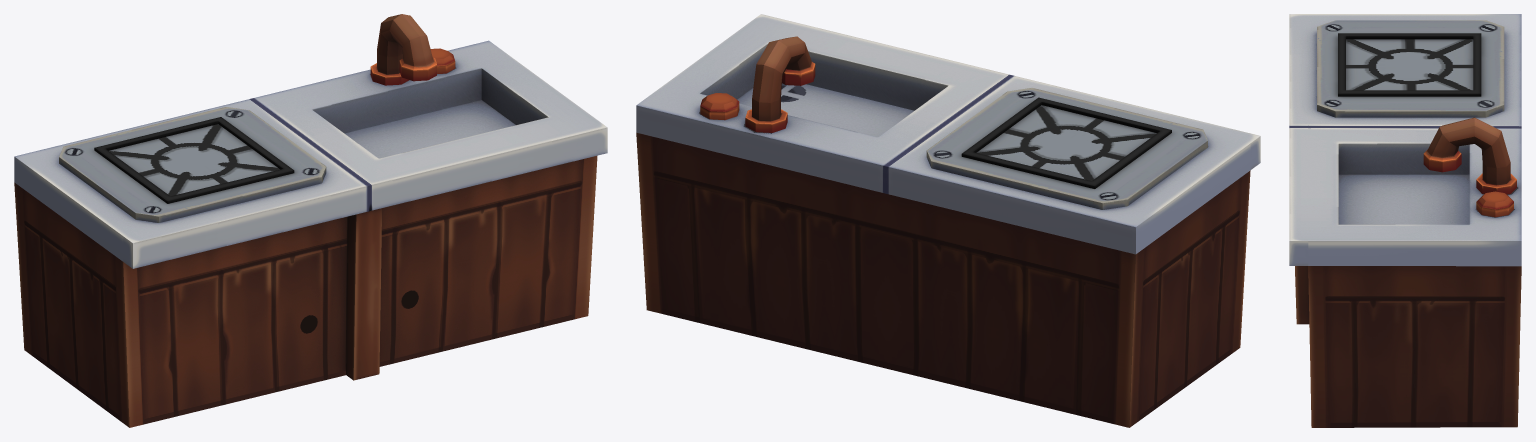
The model's file is Kitchen_Sink.fbx.
The picture shows the model from 3 angles, left to right: view 1: azimuth 30°, elevation 25°; view 2: azimuth 150°, elevation 25°; view 3: azimuth 270°, elevation 25°; orthographic projection. The views are drawn at different scales.
Parts seen in each view (by area): view 1: pCube153; view 2: pCube153; view 3: pCube153.
Boxes of the visible parts, left/top/right/bottom form: pCube153: left=14, top=14, right=607, bottom=427; pCube153: left=636, top=14, right=1260, bottom=427; pCube153: left=1289, top=14, right=1521, bottom=427.
Size of the model in its own units: 4.13 by 2.21 by 1.79.
